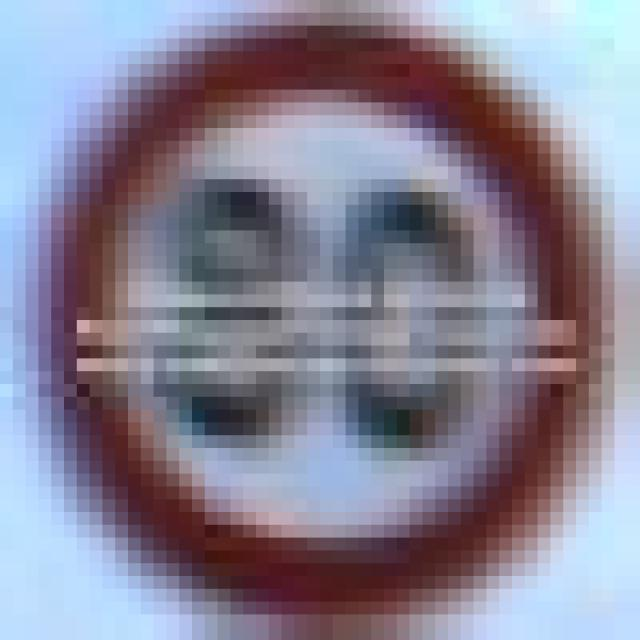speed_limit_50: (26, 13, 602, 589)
